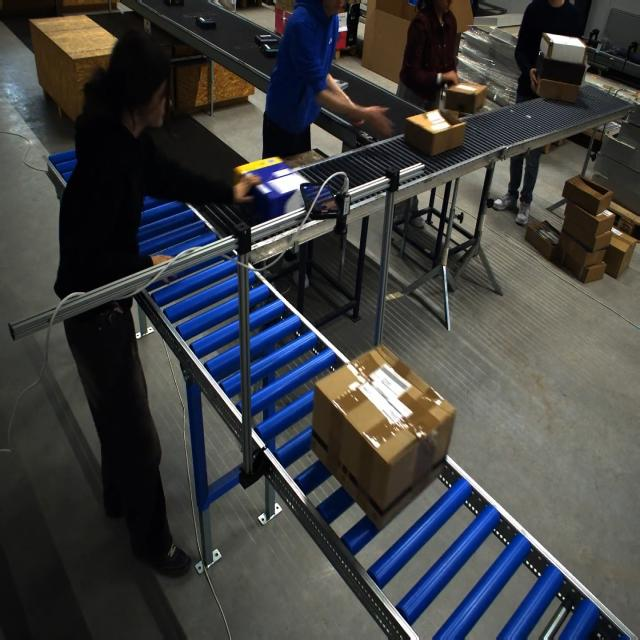box: (319, 351, 449, 521), (233, 157, 306, 223), (534, 33, 588, 103), (403, 109, 464, 157), (443, 81, 487, 114)
product: (259, 42, 280, 57), (195, 15, 217, 29), (254, 34, 277, 47)
